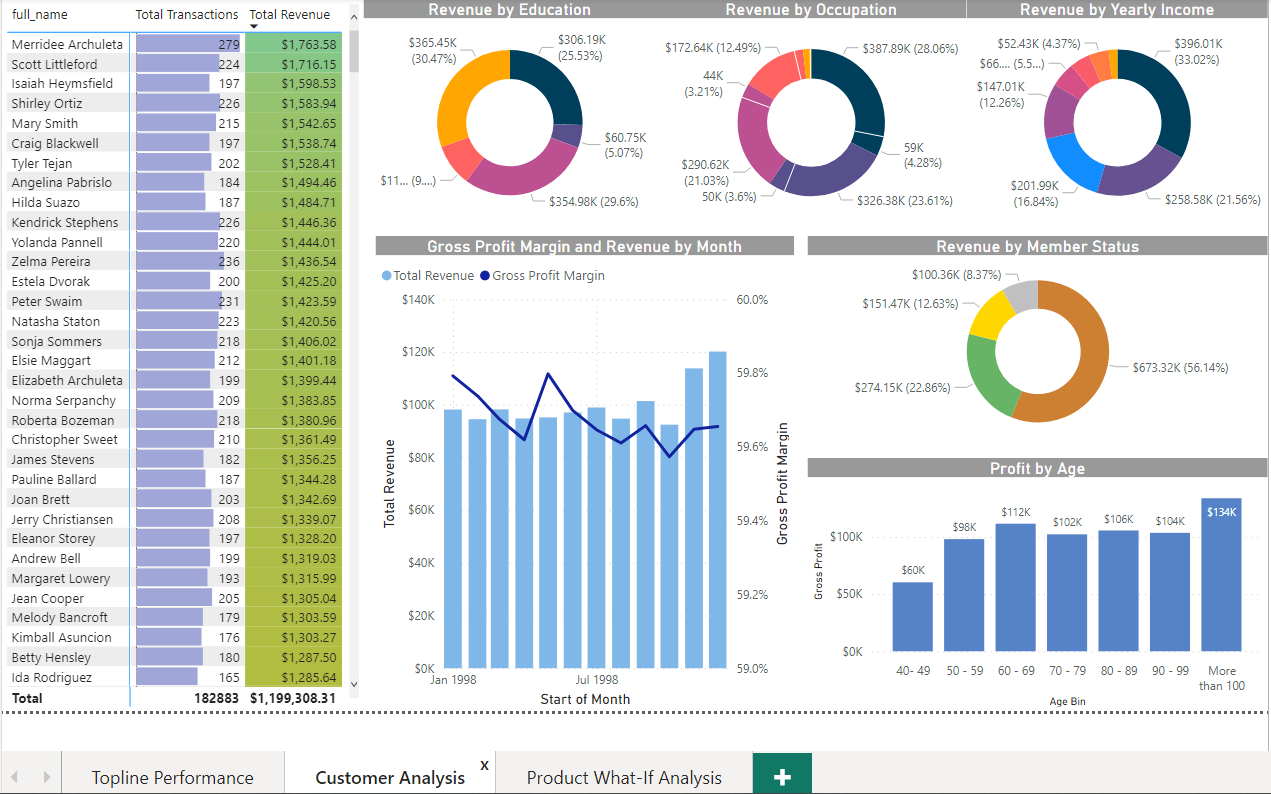

What the dashboard file says about the page in this screenshot:
{"tool":"powerbi","page":{"name":"Customer Analysis","canvas":[1280,720],"ordinal":1},"visuals":[{"type":"pivotTable","fields":{"Rows":["Customers.full_name"],"Values":["Transaction_Data.Total Transactions","Transaction_Data.Total Revenue"]},"box":[0,0,365.5,720.4],"z":0},{"type":"donutChart","title":"Revenue by Education","fields":{"Series":["Customers.education"],"Y":["Transaction_Data.Total Revenue"]},"box":[365.5,0,295.7,230.5],"z":1000},{"type":"donutChart","title":"Revenue by Member Status","fields":{"Category":["Customers.member_card"],"Y":["Transaction_Data.Total Revenue"]},"box":[814.4,239.6,465.6,213.8],"z":2000},{"type":"lineStackedColumnComboChart","title":"Gross Profit Margin and Revenue by Month","fields":{"Category":["Calendar.Start of Month"],"Y":["Transaction_Data.Total Revenue"],"Y2":["Transaction_Data.Gross Profit Margin"]},"box":[377.6,239.6,423.1,480.8],"z":3000},{"type":"donutChart","title":"Revenue by Occupation","fields":{"Category":["Customers.occupation"],"Y":["Transaction_Data.Total Revenue","Transaction_Data.Total Transactions"]},"box":[661.2,0,313.9,230.5],"z":4000},{"type":"columnChart","title":"Profit by Age","fields":{"Category":["Customers.Age Bin"],"Y":["Transaction_Data.Total Profit"]},"box":[814.4,464.1,465.6,256.3],"z":5000},{"type":"donutChart","title":"Revenue by Yearly Income","fields":{"Y":["Transaction_Data.Total Revenue"],"Category":["Customers.yearly_income"]},"box":[975.2,0,304.8,230.5],"z":6000}]}

Visuals, with their boxes on the page's 1280x720 design canvas (x1, y1, x2, y2). These are canvas units, not pixel positions in the 1271x794 screenshot, which may show the page scaled, cropped or inside an application window:
pivotTable - Customers.full_name x Transaction_Data.Total Transactions: locate(0, 0, 366, 720)
"Revenue by Education" donutChart: locate(366, 0, 661, 230)
"Revenue by Member Status" donutChart: locate(814, 240, 1280, 453)
"Gross Profit Margin and Revenue by Month" lineStackedColumnComboChart: locate(378, 240, 801, 720)
"Revenue by Occupation" donutChart: locate(661, 0, 975, 230)
"Profit by Age" columnChart: locate(814, 464, 1280, 720)
"Revenue by Yearly Income" donutChart: locate(975, 0, 1280, 230)
